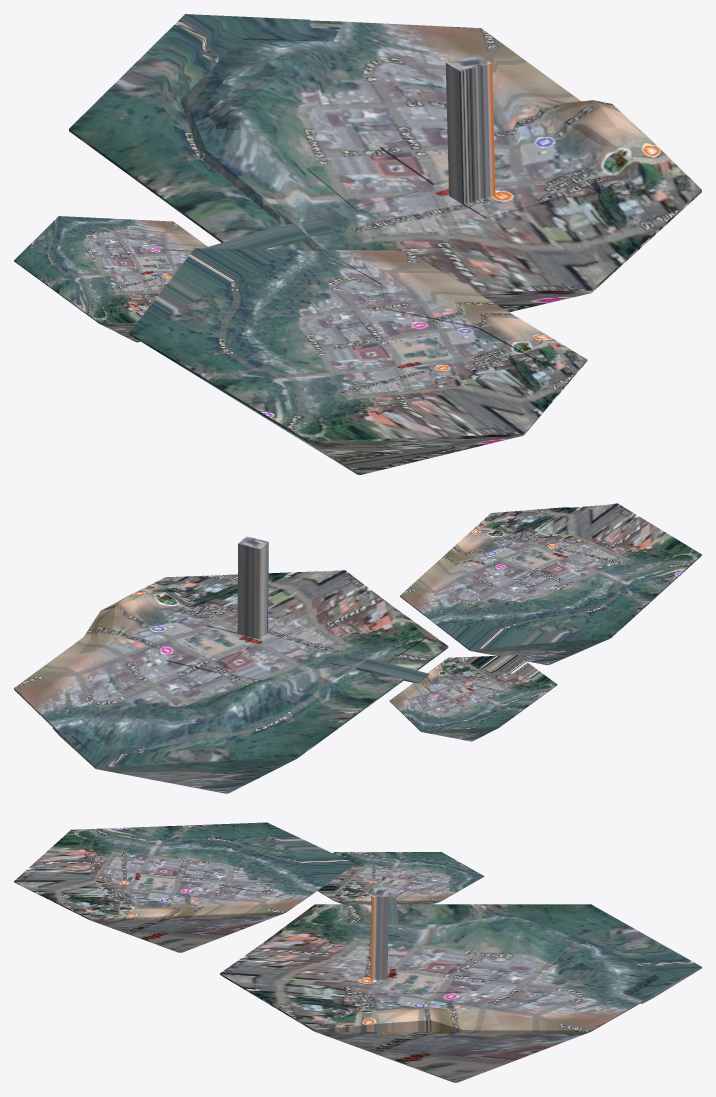
File: salentoQuindio.glb
3 views of the same model, one above another, from view 1: azimuth 30°, elevation 25°; view 2: azimuth 150°, elevation 25°; view 3: azimuth 270°, elevation 25° (orthographic). The views are drawn at different scales.
Visible parts, largest first — view 1: base; view 2: base; view 3: base.
Boxes of the visible parts, left/top/right/bottom form: base: left=14, top=14, right=701, bottom=474; base: left=14, top=503, right=701, bottom=793; base: left=14, top=822, right=701, bottom=1082.
Size of what is drawn, in the model's own units: 193 by 94.37 by 299.
Materials: 3 (3 with a texture image).
